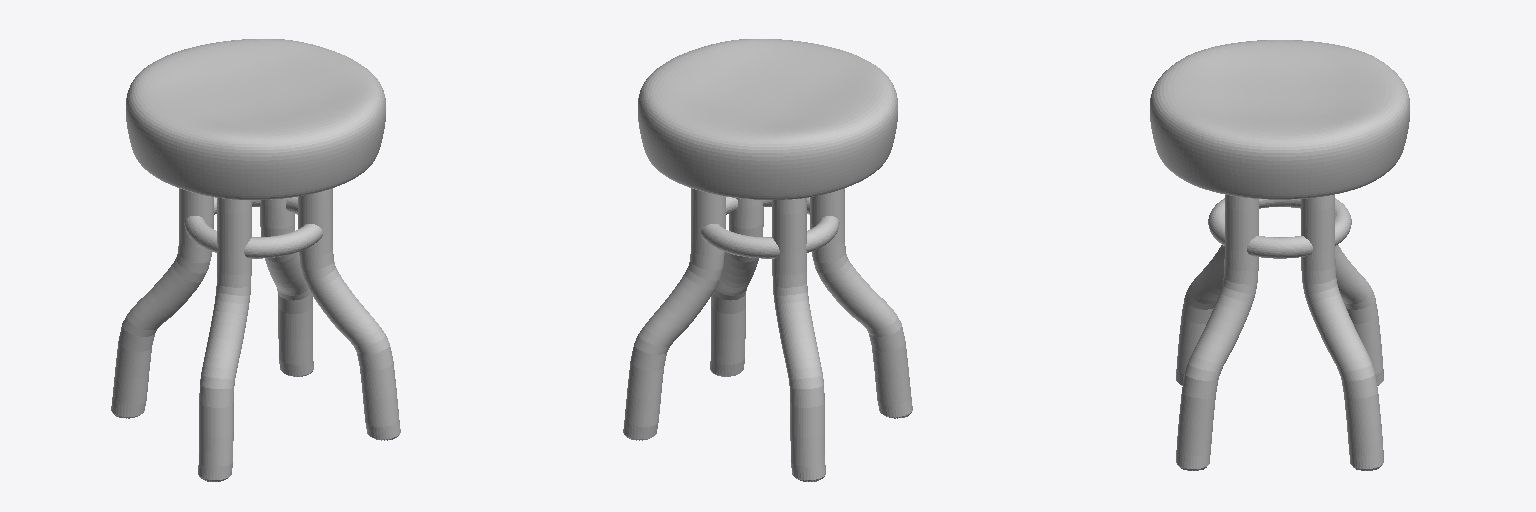
The model's file is chair.obj.
3 renders of one model, left to right at view 1: azimuth 30°, elevation 25°; view 2: azimuth 150°, elevation 25°; view 3: azimuth 270°, elevation 25°, orthographic.
Parts seen in each view (by area): view 1: Cube, 立方体, 环体; view 2: Cube, 立方体, 环体; view 3: Cube, 立方体, 环体.
Boxes of the visible parts, x1=… form: Cube: x1=126, y1=39, x2=385, y2=199; 立方体: x1=111, y1=188, x2=400, y2=481; 环体: x1=184, y1=197, x2=322, y2=258; Cube: x1=638, y1=39, x2=897, y2=199; 立方体: x1=623, y1=188, x2=912, y2=481; 环体: x1=701, y1=197, x2=839, y2=258; Cube: x1=1150, y1=40, x2=1409, y2=199; 立方体: x1=1176, y1=195, x2=1383, y2=470; 环体: x1=1208, y1=198, x2=1351, y2=258.
Size of the model in its own units: 2.17 by 3.1 by 2.17.